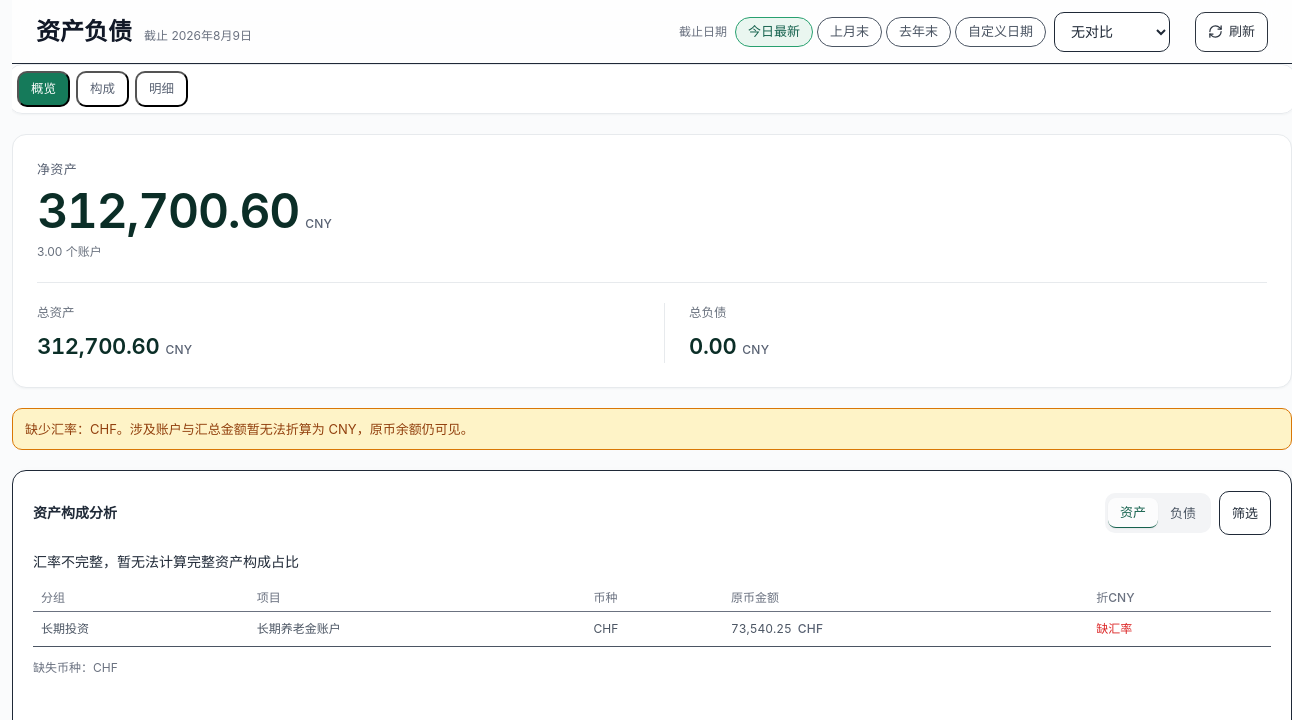
Test case: BalanceSheetPage › 对比上月末：按 account.id 对齐渲染中性涨跌 Delta 与门禁指示
Select "对比上月末" in the dropdown named "对比基准" at [1112, 32], box [1054,12,1170,52]
(page scrolled)
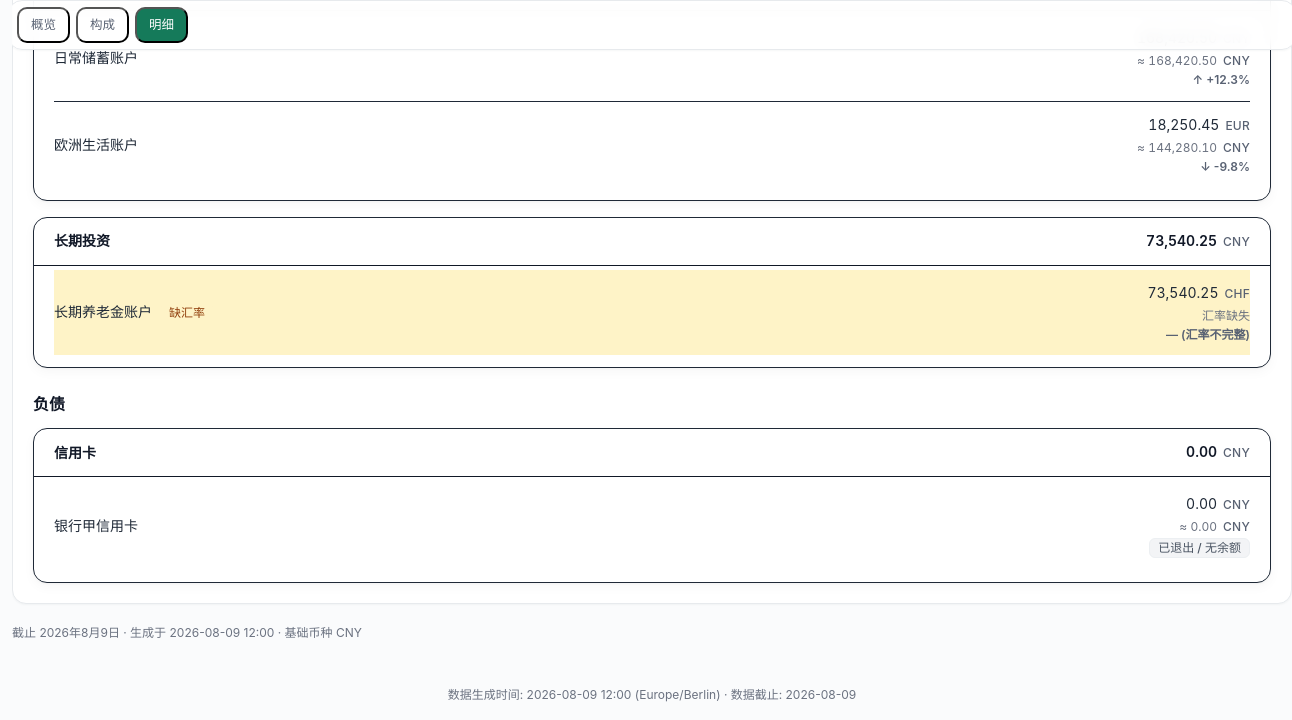
Expected: the text "↑ +12.3%" is shown, [1192,72,1250,89]
Expected: the text "↓ -9.8%" is shown, [1200,159,1250,176]
Expected: the text "— (汇率不完整)" is shown, [1166,326,1250,343]
